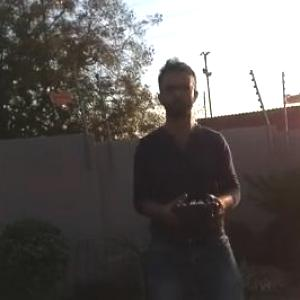follow: (122, 48, 255, 299)
